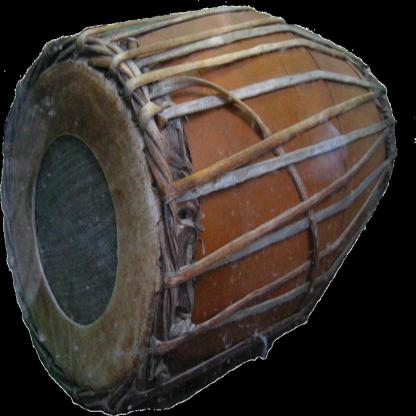Mridangam: (6, 9, 240, 411)
